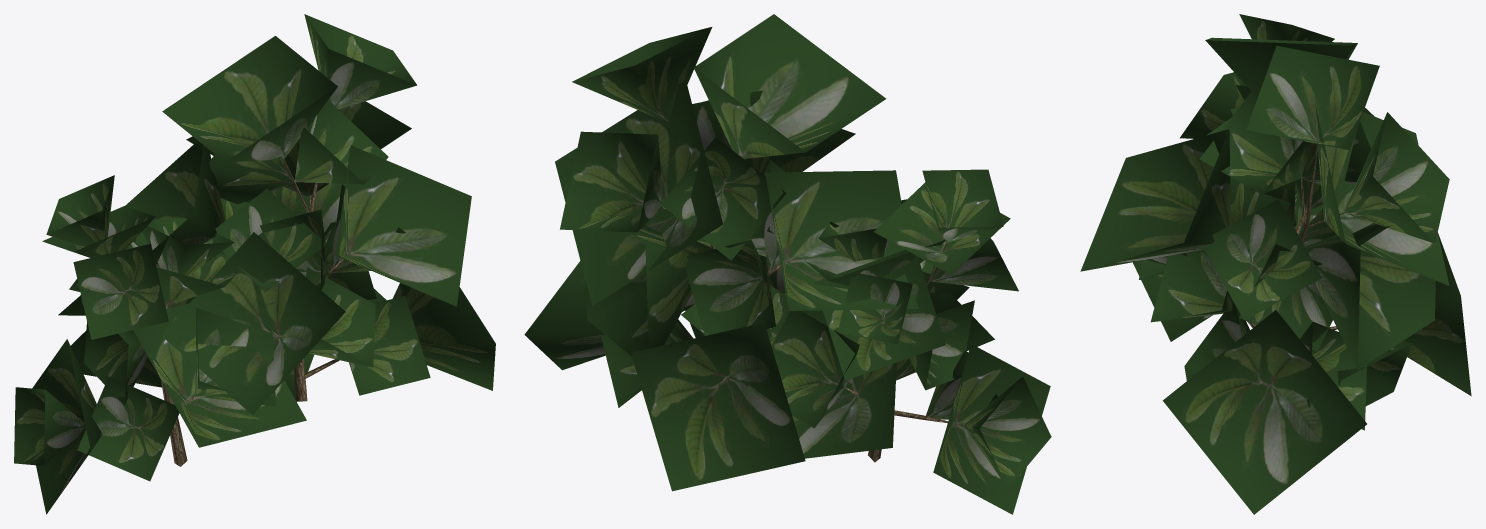
File: leaf_palmbush_a1_l0.fbx
3 views of the same model, side by side, from view 1: azimuth 30°, elevation 25°; view 2: azimuth 150°, elevation 25°; view 3: azimuth 270°, elevation 25° (orthographic). The views are drawn at different scales.
Visible parts, largest first — view 1: mesh_node; view 2: mesh_node; view 3: mesh_node.
Part boxes in pixels (x1=…): mesh_node: x1=14, y1=14, x2=495, y2=514; mesh_node: x1=524, y1=14, x2=1051, y2=514; mesh_node: x1=1080, y1=14, x2=1471, y2=514.
Bounding box in the file's own units: 3.16 × 2.61 × 2.23.
